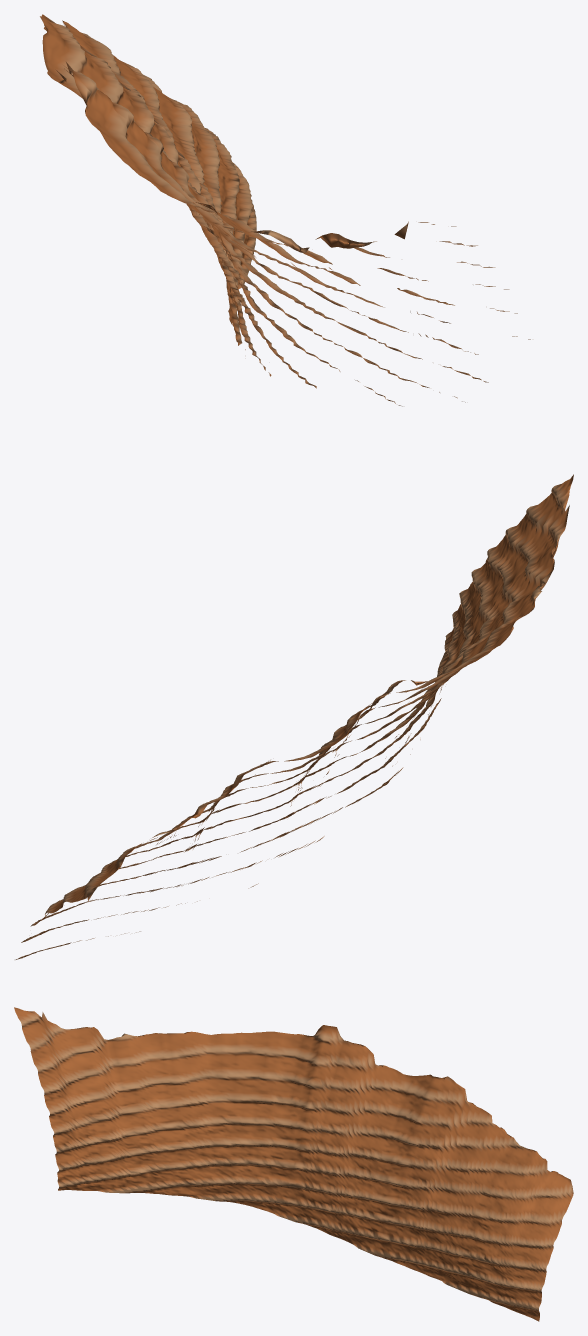
Rendered from terrain-002.glb.
3 renders of one model, top to bottom at view 1: azimuth 30°, elevation 25°; view 2: azimuth 150°, elevation 25°; view 3: azimuth 270°, elevation 25°, orthographic. The views are drawn at different scales.
Parts seen in each view (by area): view 1: terrain-002; view 2: terrain-002; view 3: terrain-002.
Part boxes in pixels (box(x1,y1,x2,y2)): terrain-002: box(40, 14, 530, 406); terrain-002: box(15, 474, 573, 959); terrain-002: box(14, 1007, 573, 1321).
Bounding box in the file's own units: 133 × 142 × 309.
